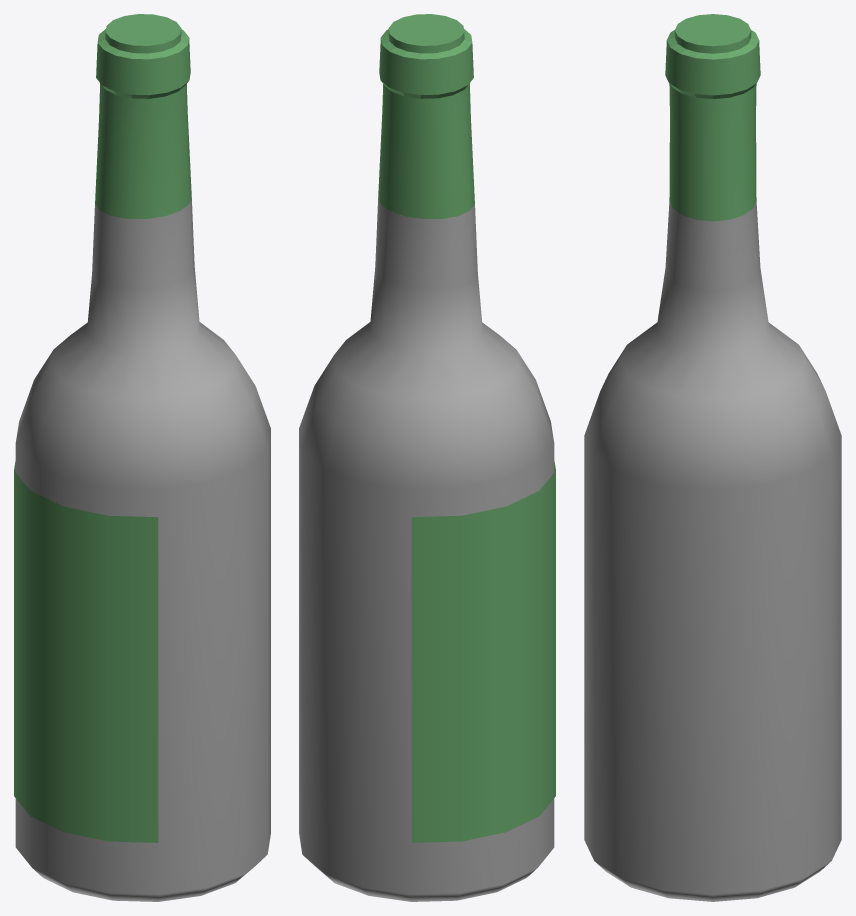
The model's file is SM_Bottle_5.fbx.
3 renders of one model, left to right at view 1: azimuth 30°, elevation 25°; view 2: azimuth 150°, elevation 25°; view 3: azimuth 270°, elevation 25°, orthographic.
Parts seen in each view (by area): view 1: polySurface2; view 2: polySurface2; view 3: polySurface2.
Boxes of the visible parts, box(x1,y1,x2,y2) form: polySurface2: box(14, 14, 270, 901); polySurface2: box(299, 14, 555, 901); polySurface2: box(584, 14, 841, 901).
Size of the model in its own units: 7.96 by 27.89 by 7.9.
